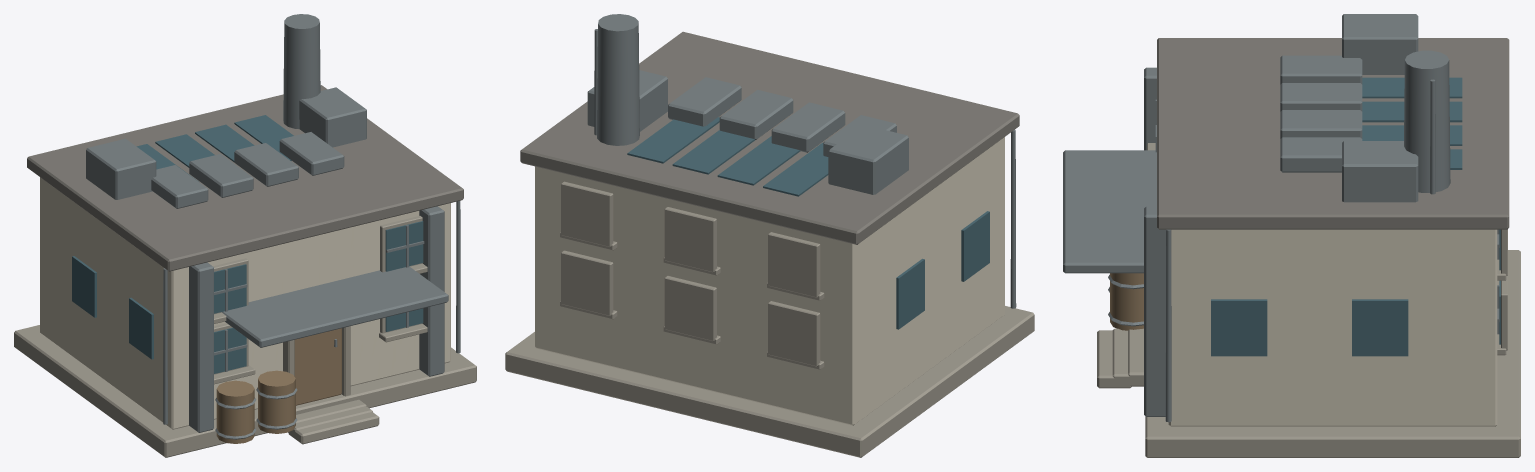
The model's file is bld_atelier_a10.glb.
3 views of the same model, side by side, from view 1: azimuth 30°, elevation 25°; view 2: azimuth 150°, elevation 25°; view 3: azimuth 270°, elevation 25° (orthographic). The views are drawn at different scales.
Parts seen in each view (by area): view 1: bld_atelier_a10; view 2: bld_atelier_a10; view 3: bld_atelier_a10.
Boxes of the visible parts, x1,y1,x2,y2 form: bld_atelier_a10: [14, 14, 476, 457]; bld_atelier_a10: [505, 14, 1034, 457]; bld_atelier_a10: [1063, 14, 1520, 457].
Bounding box in the file's own units: 3.8 × 3.41 × 3.9.
